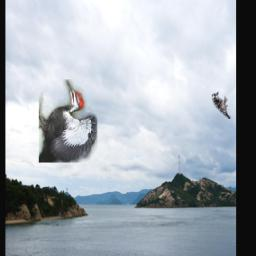Woodpecker: (38, 79, 96, 163), (211, 92, 230, 120)
